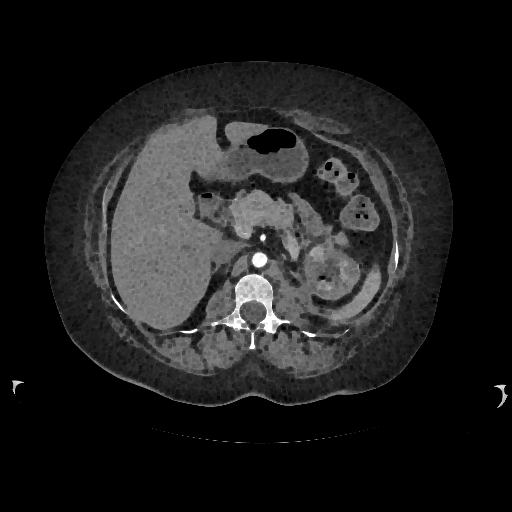Lesion: (308, 246, 324, 263)
